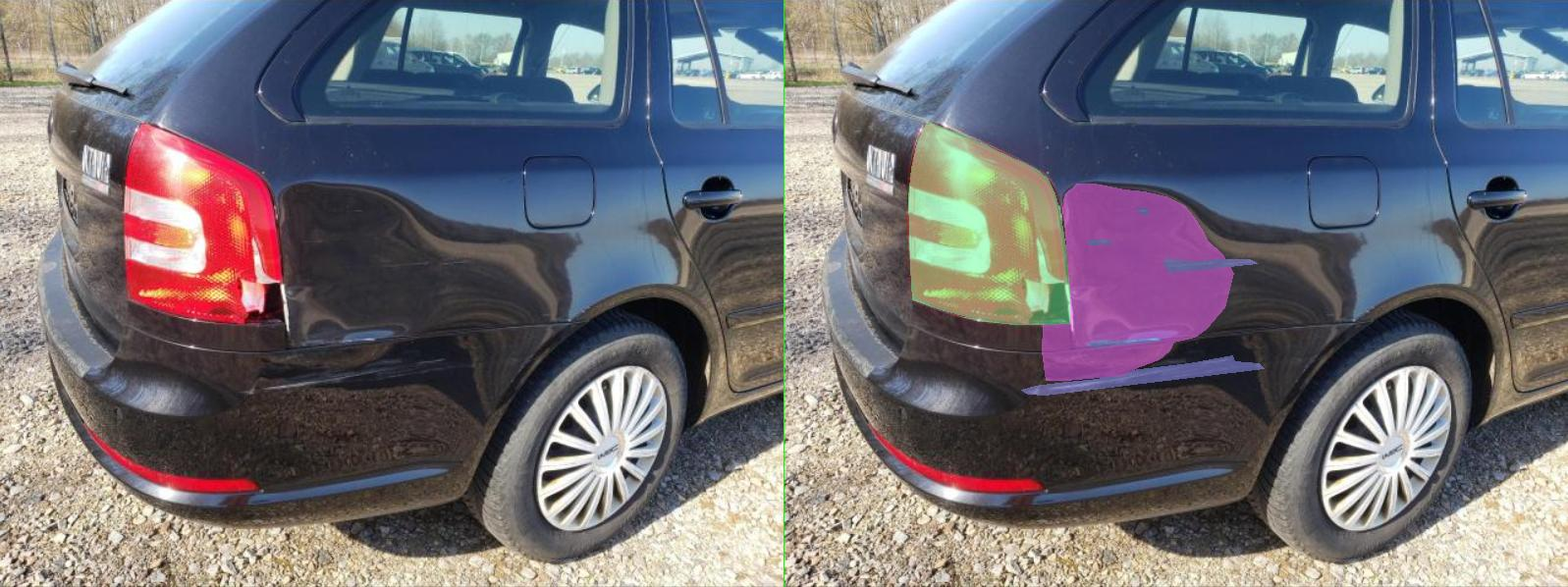Broken part: (248, 122, 570, 324)
Dent: (515, 184, 898, 380)
Scratch: (474, 355, 959, 395), (758, 258, 945, 272), (603, 338, 753, 347), (607, 240, 656, 244), (705, 208, 727, 214)
